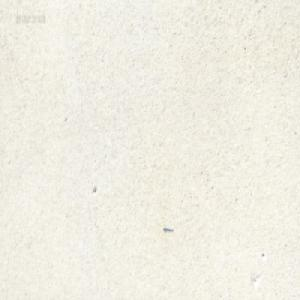Nail: (163, 225, 173, 232)
